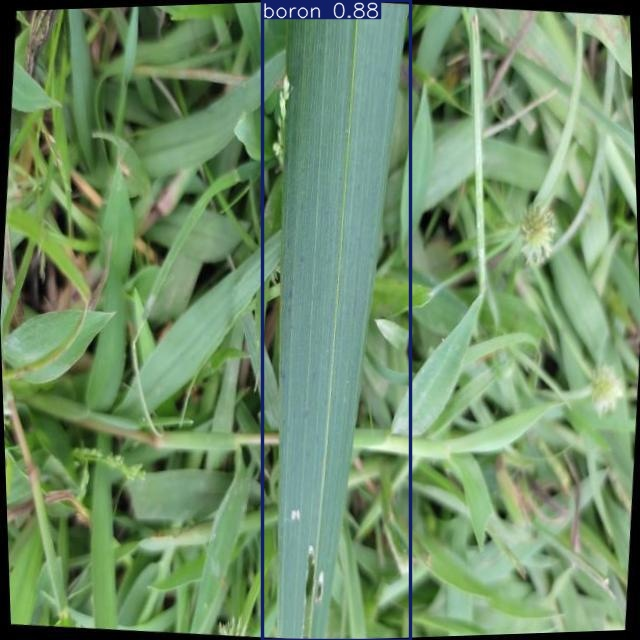nitrogen: (262, 0, 411, 640)
